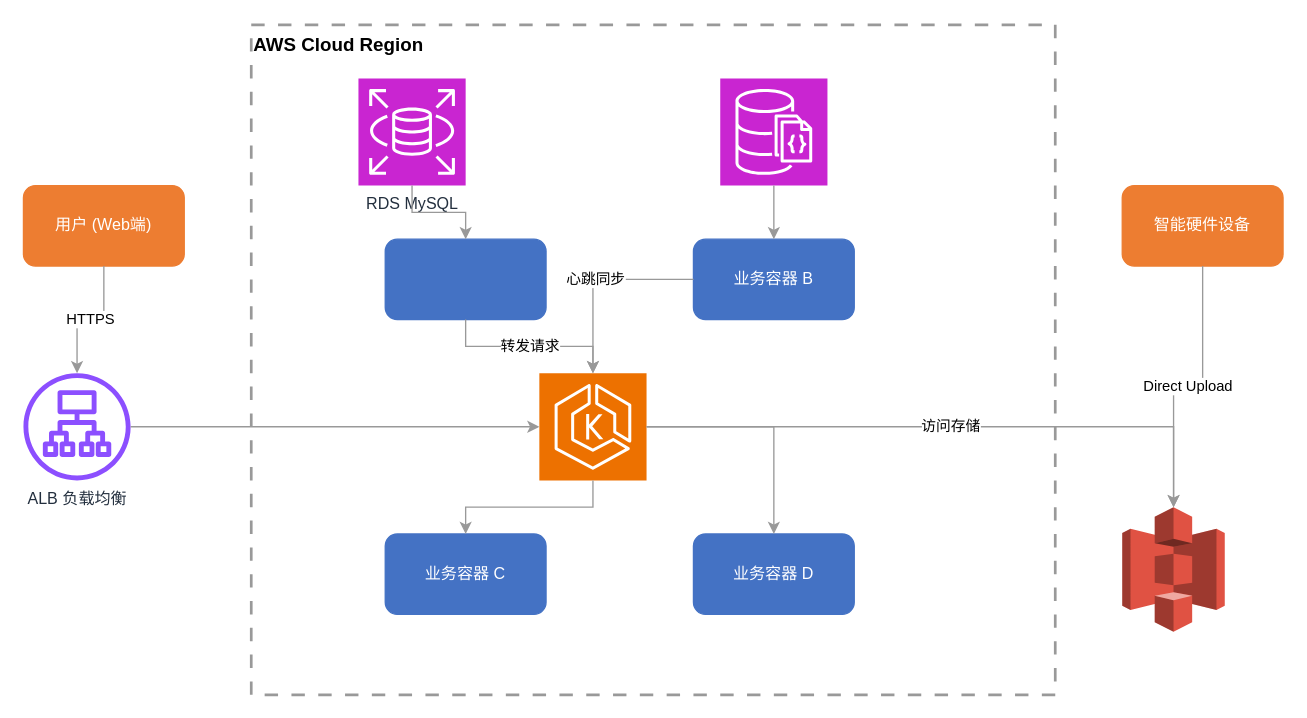
Image size: 1307x718. Some labels were removed from this diagram. The box of each missing label's shape, as (x1, y1, x2, y2) in pixels:
Amazon EKS 核心: (538, 372, 647, 480)
Amazon S3: (1121, 506, 1225, 632)
DocumentDB: (719, 77, 827, 186)
业务容器 A: (384, 238, 546, 320)
